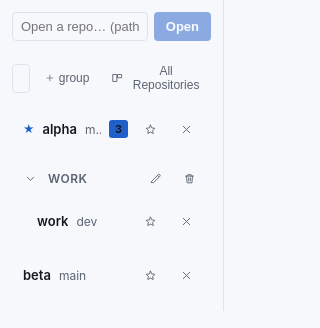
Scenario: remove button unlinks the repo from the workspace
Click the 1st button named "Remove from workspace": (186, 129) [172,115,200,143]
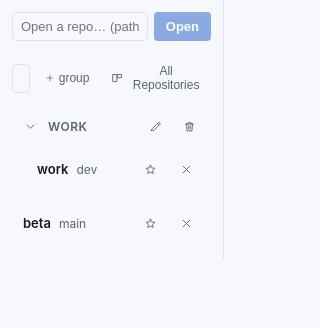
Expected: the button "alpha" is gone
